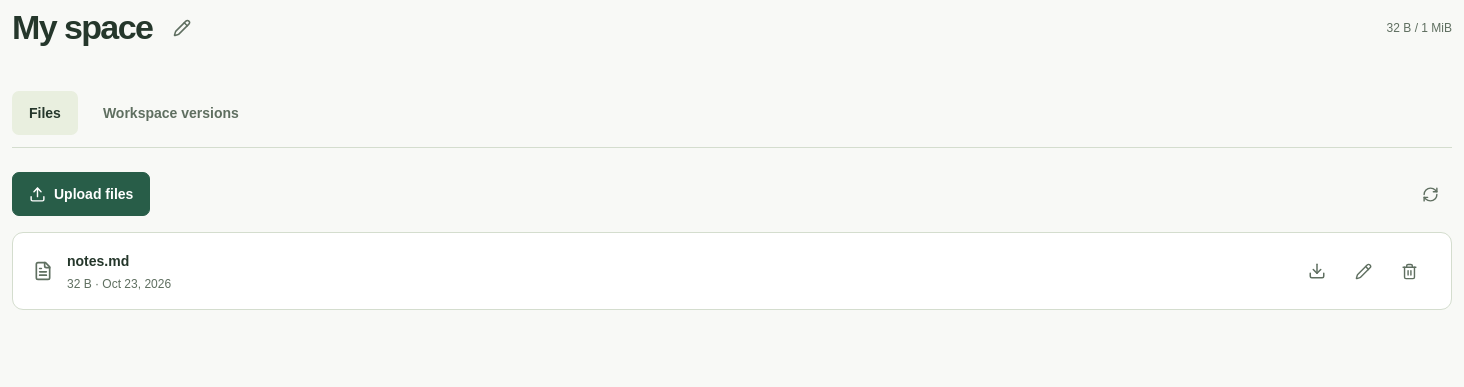
space user journeys › explains an active-response file pin after deletion is refused in en
The image size is (1464, 387).
Click the button named "Delete notes.md".
click(1409, 271)  # box [1387, 249, 1431, 293]
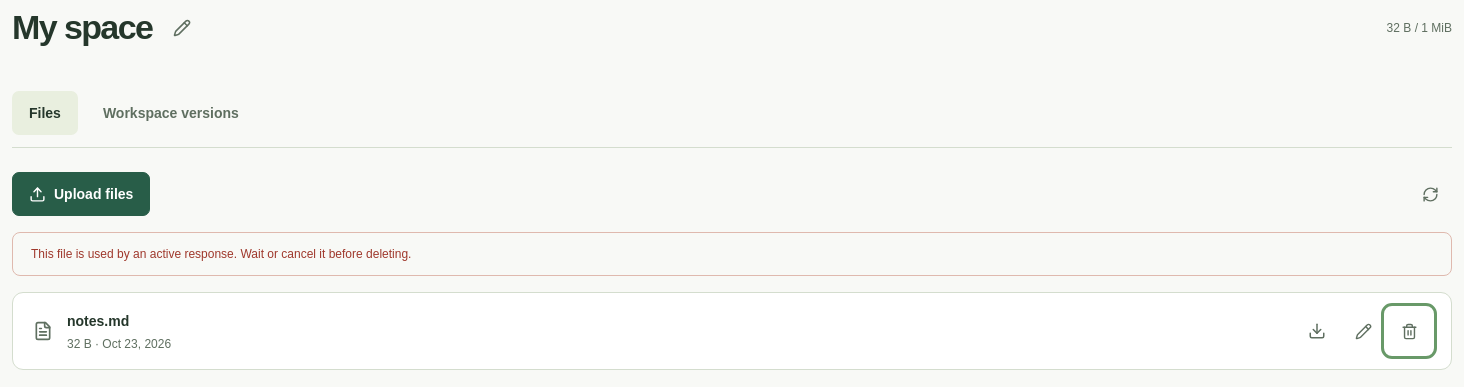
Expected: the message does not show "private dependency detail", [12, 232, 1452, 276]
Result: the message reads "This file is used by an active response. Wait or cancel it before deleting." at [31, 247, 411, 261]
